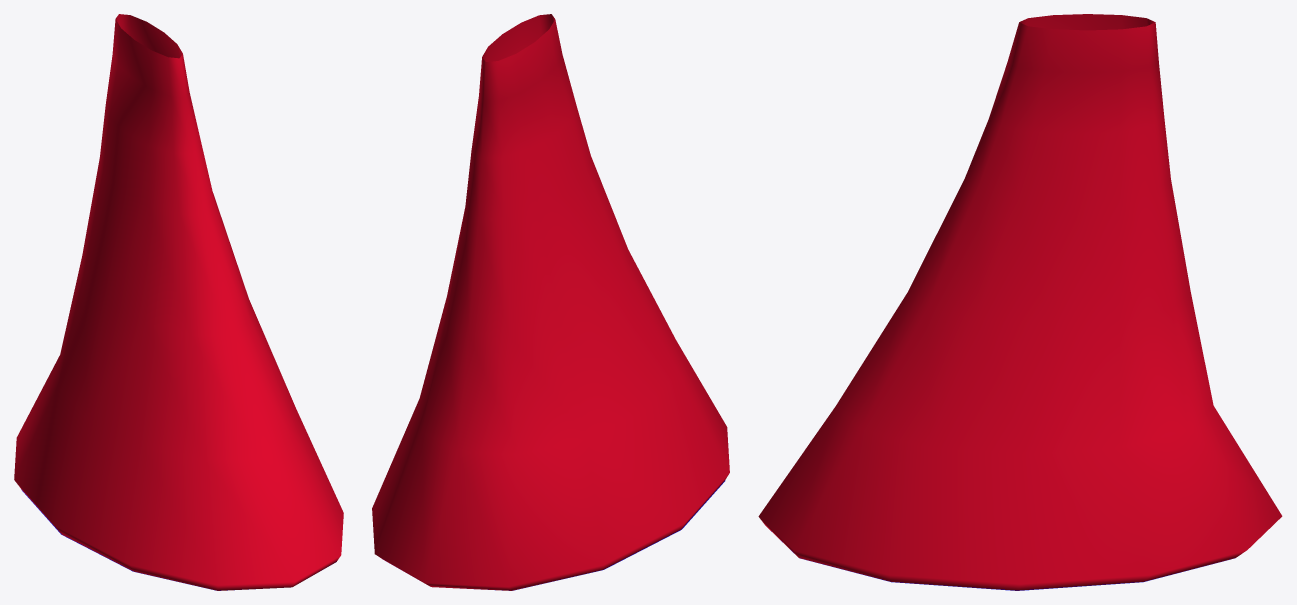
Rendered from Lampadaire_Light.fbx.
3 views of the same model, side by side, from view 1: azimuth 30°, elevation 25°; view 2: azimuth 150°, elevation 25°; view 3: azimuth 270°, elevation 25° (orthographic). The views are drawn at different scales.
Visible parts, largest first — view 1: Cylinder; view 2: Cylinder; view 3: Cylinder.
Boxes of the visible parts, x1=… form: Cylinder: x1=14, y1=14, x2=343, y2=590; Cylinder: x1=372, y1=14, x2=729, y2=590; Cylinder: x1=758, y1=14, x2=1282, y2=590.
Size of the model in its own units: 0.6346 by 1.1 by 1.04.
